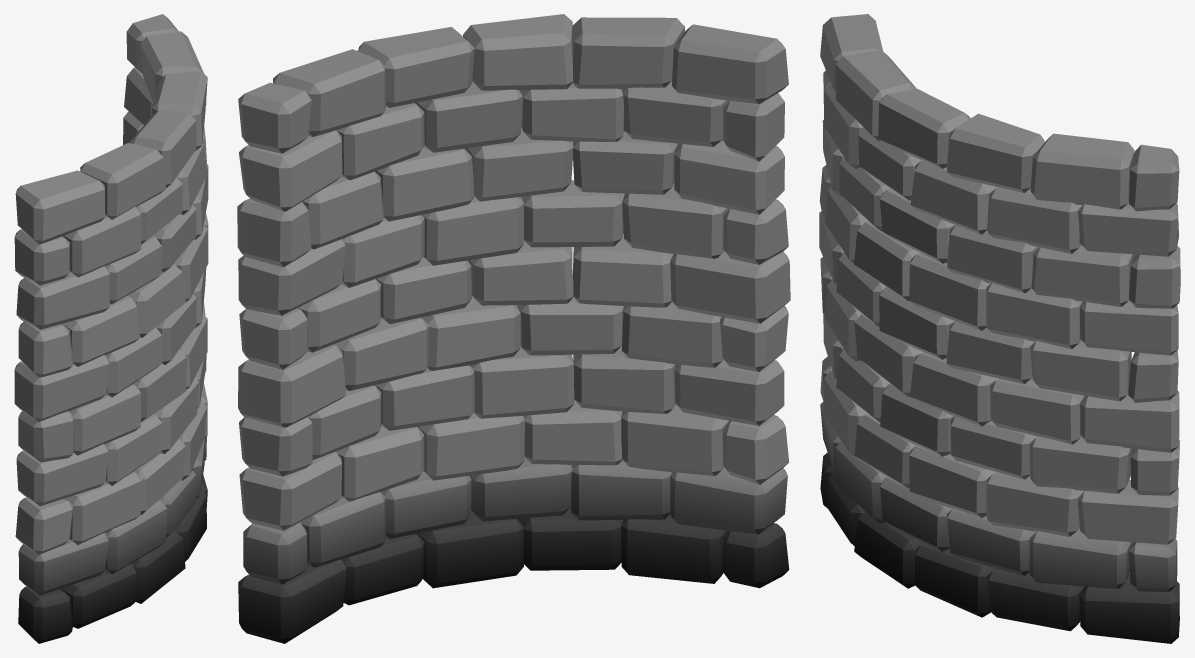
File: BrickWall2x2_01_T90_Solo.fbx
The picture shows the model from 3 angles, left to right: view 1: azimuth 30°, elevation 25°; view 2: azimuth 150°, elevation 25°; view 3: azimuth 270°, elevation 25°; orthographic projection. The views are drawn at different scales.
Visible parts, largest first — view 1: BrickWall2x2_01_T90_Solo; view 2: BrickWall2x2_01_T90_Solo; view 3: BrickWall2x2_01_T90_Solo.
Boxes of the visible parts, x1=… form: BrickWall2x2_01_T90_Solo: x1=14, y1=14, x2=208, y2=643; BrickWall2x2_01_T90_Solo: x1=237, y1=14, x2=790, y2=643; BrickWall2x2_01_T90_Solo: x1=819, y1=14, x2=1180, y2=643.
Size of the model in its own units: 140 by 202 by 137.
